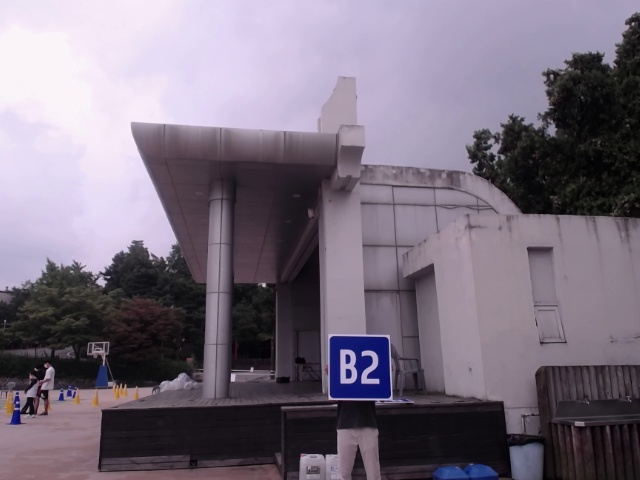delivery_b2: (328, 333, 393, 400)
